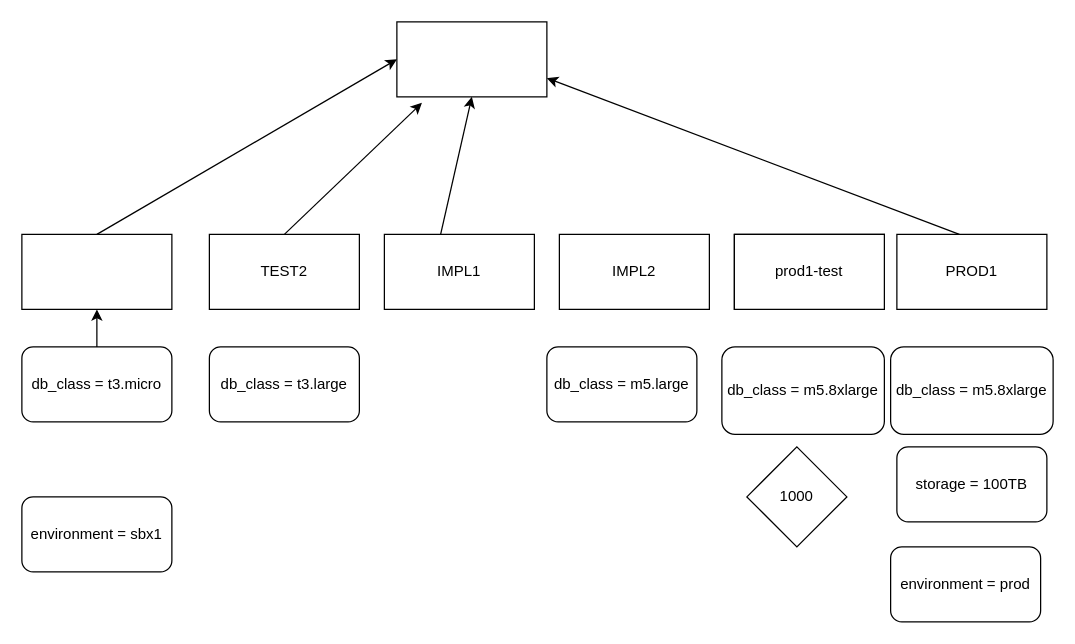
Some shapes in this 1075 by 644 pixel diagram are drawn without their labels. Each missing label, with the centre of its shape:
MODULES: (471,59)
SBX1: (96,271)
